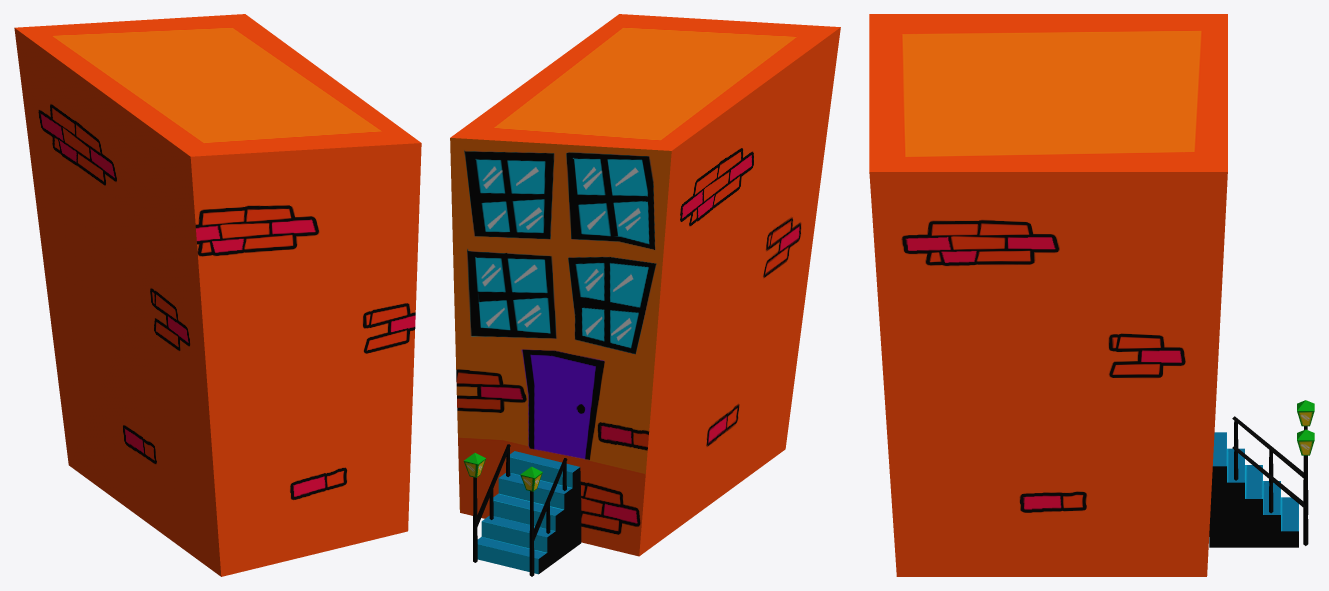
The picture shows the model from 3 angles, left to right: view 1: azimuth 30°, elevation 25°; view 2: azimuth 150°, elevation 25°; view 3: azimuth 270°, elevation 25°; orthographic projection. The views are drawn at different scales.
Visible parts, largest first — view 1: TODOS:HousesGroup:polySurface16; view 2: TODOS:HousesGroup:polySurface16; view 3: TODOS:HousesGroup:polySurface16.
Boxes of the visible parts, <box> form: TODOS:HousesGroup:polySurface16: <box>14,14,421,576</box>; TODOS:HousesGroup:polySurface16: <box>450,14,840,576</box>; TODOS:HousesGroup:polySurface16: <box>869,14,1314,576</box>.
Bounding box in the file's own units: 10.37 × 18.92 × 17.03.
